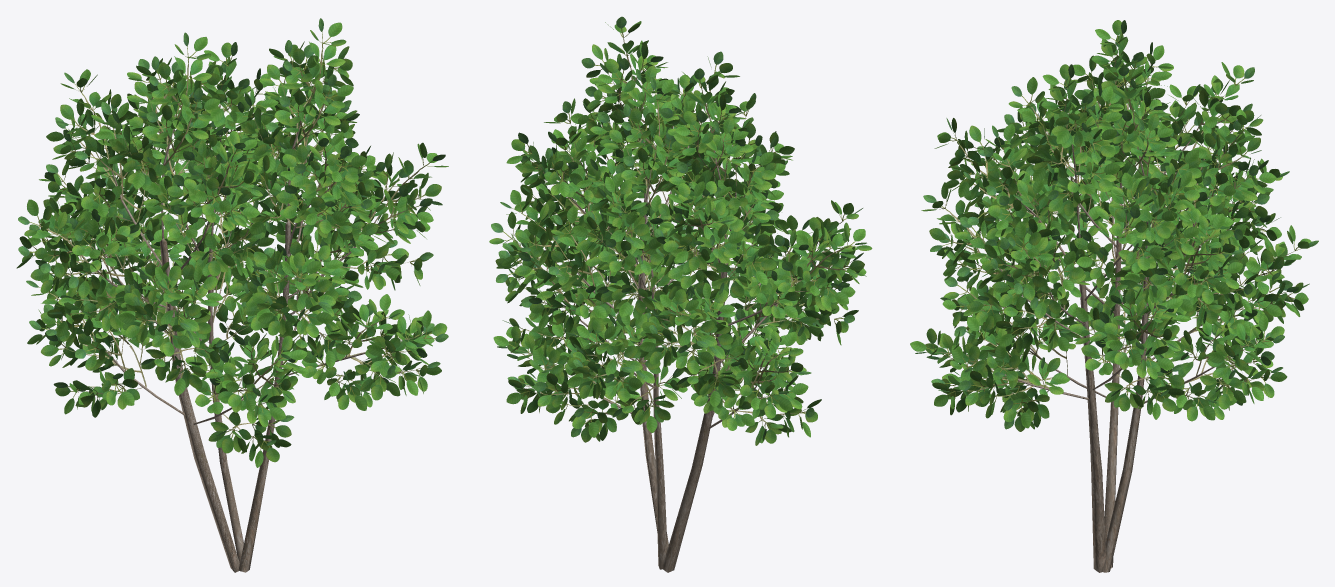
The model's file is MS_ShrubTree05b.fbx.
The picture shows the model from 3 angles, left to right: view 1: azimuth 30°, elevation 25°; view 2: azimuth 150°, elevation 25°; view 3: azimuth 270°, elevation 25°; orthographic projection. The views are drawn at different scales.
Parts seen in each view (by area): view 1: Leaves, TreeBare; view 2: Leaves, TreeBare; view 3: Leaves, TreeBare.
Part boxes in pixels (<box>): Leaves: <box>16,18,448,467</box>; TreeBare: <box>97,121,376,572</box>; Leaves: <box>489,16,872,445</box>; TreeBare: <box>557,106,778,572</box>; Leaves: <box>910,20,1318,431</box>; TreeBare: <box>999,117,1226,572</box>.
Bounding box in the file's own units: 485 × 660 × 463.
